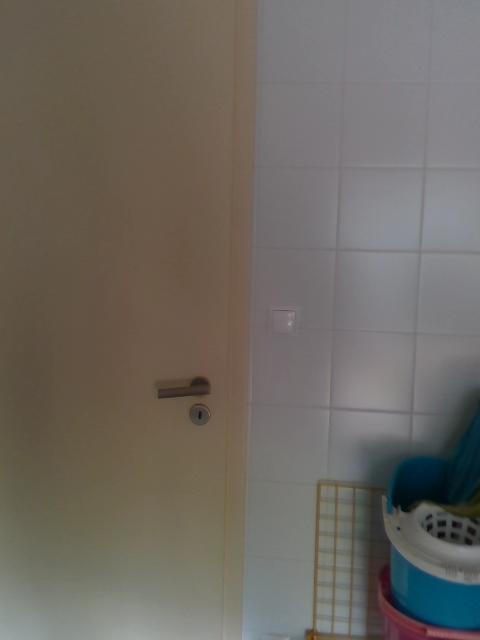door: (1, 1, 263, 639)
